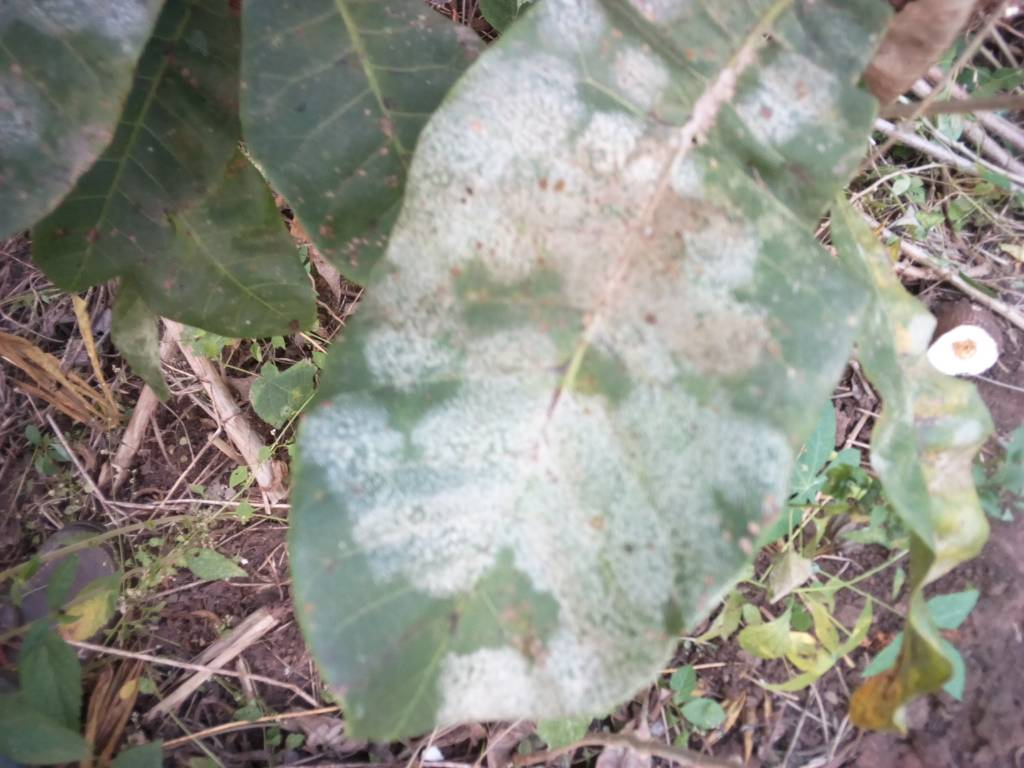Oidium: (253, 1, 892, 738)
